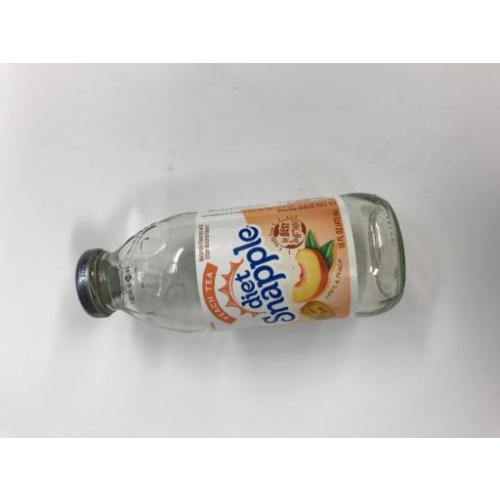glass: (78, 195, 406, 333)
